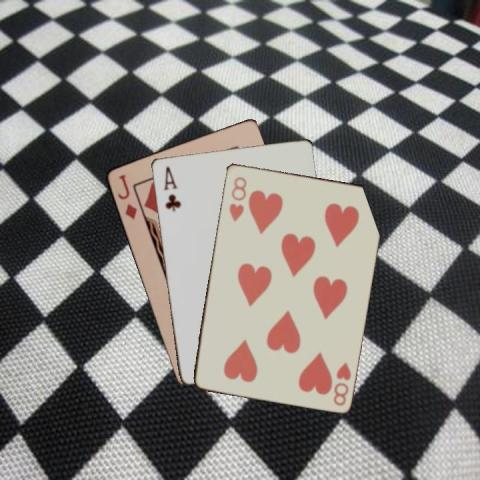8h: (226, 173, 248, 223), (330, 359, 352, 407)
Ac: (160, 162, 181, 212)
Jd: (114, 170, 139, 220)
